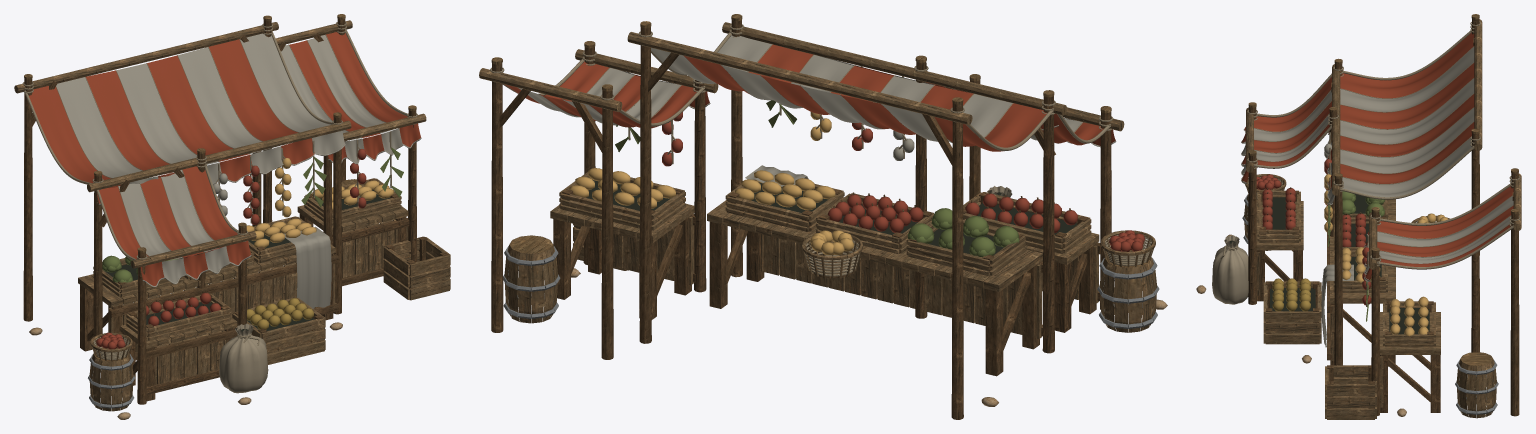
File: market.glb
3 views of the same model, side by side, from view 1: azimuth 30°, elevation 25°; view 2: azimuth 150°, elevation 25°; view 3: azimuth 270°, elevation 25° (orthographic). The views are drawn at different scales.
Parts seen in each view (by area): view 1: market_Structure, market_MainAwning_Canvas, market_LeftAwning_Canvas, market_RightAwning_Canvas, market_MainAwning_Valance, market_Counter_Linen, market_LeftAwning_Valance, market_RightAwning_Valance; view 2: market_Structure, market_MainAwning_Canvas, market_RightAwning_Canvas, market_LeftAwning_Canvas; view 3: market_Structure, market_MainAwning_Canvas, market_RightAwning_Canvas, market_LeftAwning_Canvas, market_Counter_Linen.
Boxes of the visible parts, x1,y1,x2,y2 form: market_Structure: (14, 14, 450, 419); market_MainAwning_Canvas: (28, 33, 330, 183); market_LeftAwning_Canvas: (99, 166, 237, 259); market_RightAwning_Canvas: (281, 32, 407, 139); market_MainAwning_Valance: (97, 130, 345, 204); market_Counter_Linen: (284, 226, 331, 308); market_LeftAwning_Valance: (140, 240, 251, 287); market_RightAwning_Valance: (328, 123, 421, 164); market_Structure: (479, 14, 1167, 419); market_MainAwning_Canvas: (651, 35, 1047, 151); market_RightAwning_Canvas: (504, 61, 697, 128); market_LeftAwning_Canvas: (926, 82, 1103, 145); market_Structure: (1196, 14, 1521, 419); market_MainAwning_Canvas: (1340, 32, 1474, 197); market_RightAwning_Canvas: (1377, 186, 1513, 266); market_LeftAwning_Canvas: (1254, 77, 1331, 166); market_Counter_Linen: (1321, 264, 1353, 347).
Bounding box in the file's own units: 5.91 × 3.54 × 4.35.
14 materials, 9 textured.
